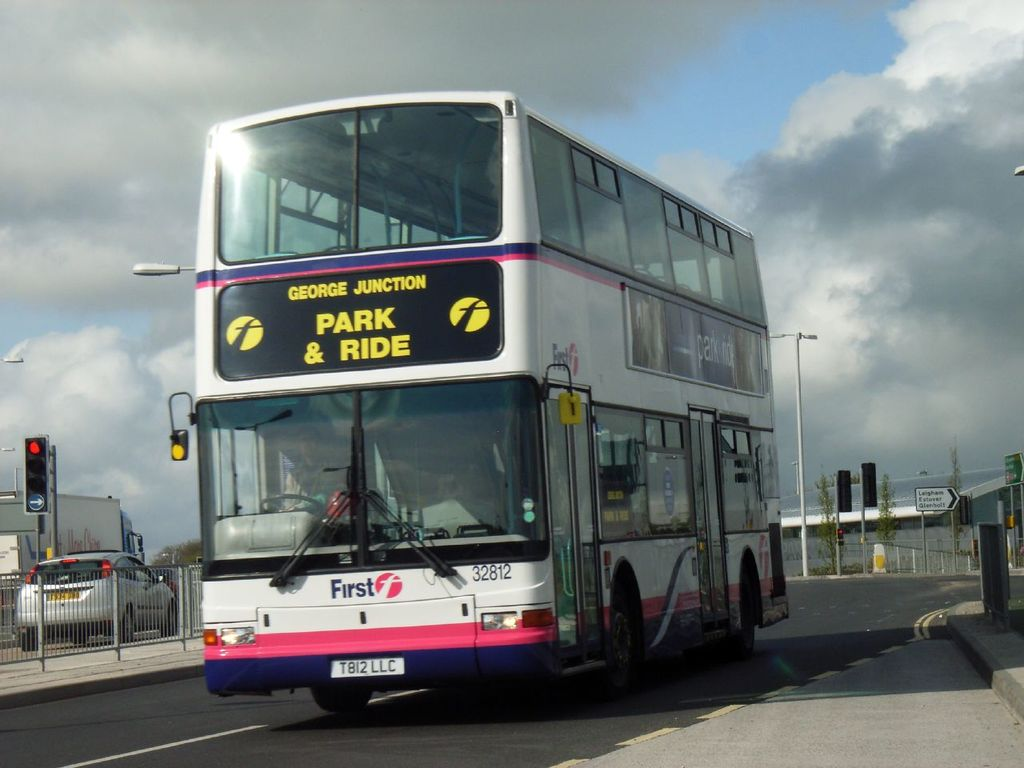Bus: (165, 86, 784, 722)
